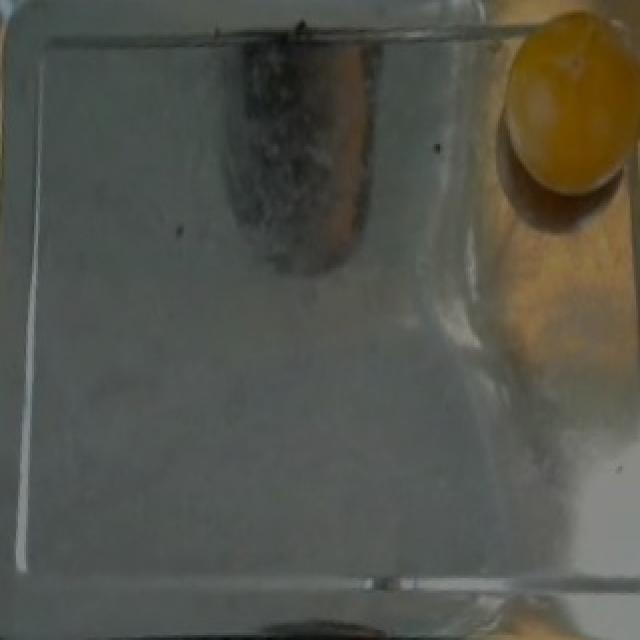Fruit: (472, 0, 638, 221), (436, 598, 640, 640)
